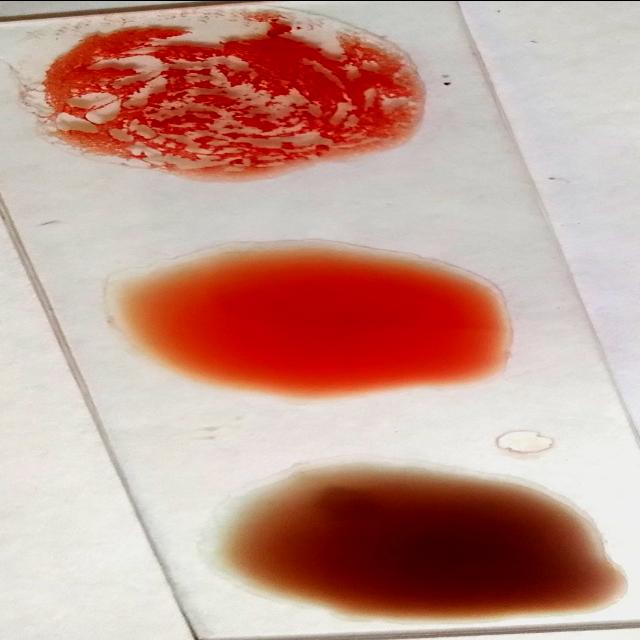D: (29, 10, 423, 176)
